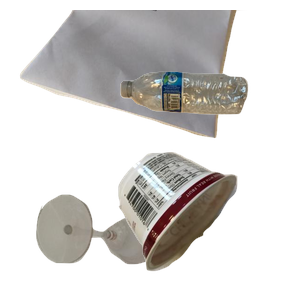glass: (34, 192, 187, 300)
paper: (17, 10, 254, 141)
plastic: (118, 69, 300, 176)
trash: (116, 149, 300, 300)
